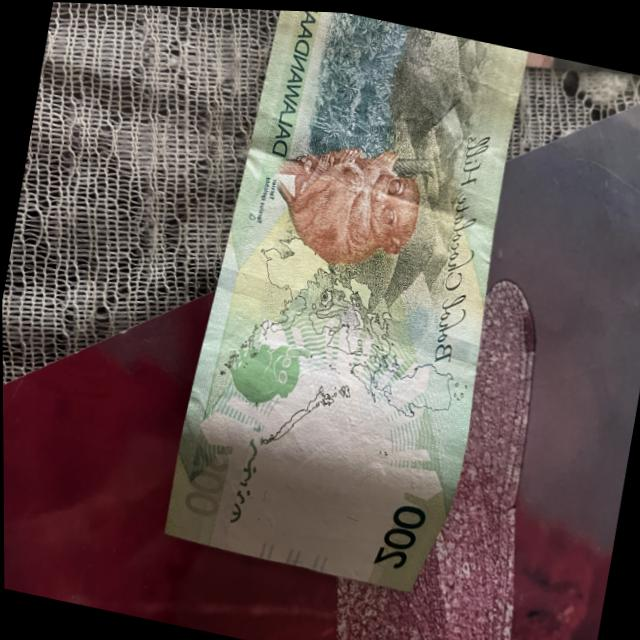200_tarsier: (262, 124, 441, 284)
200_tarsier_watermark: (217, 323, 318, 418)
